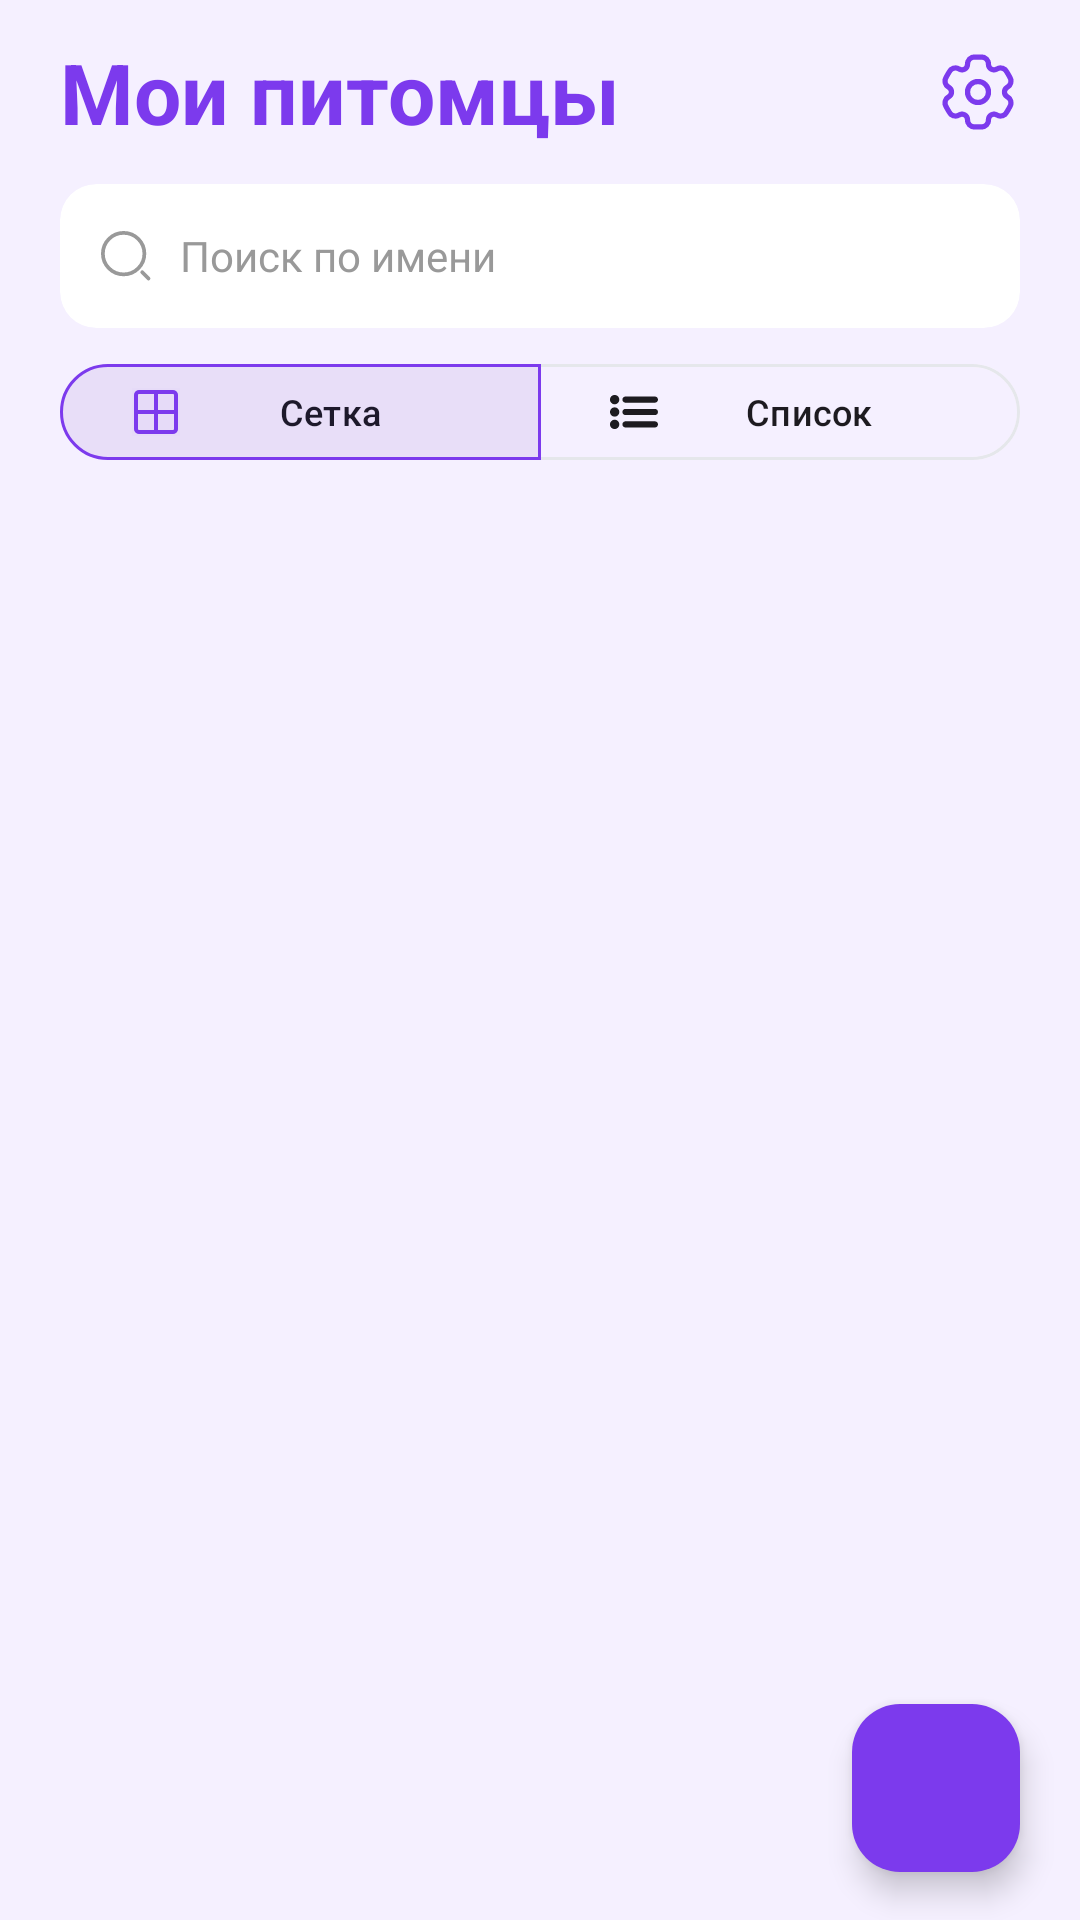

Locate icon controls on the screen. Image size 1080 x 1920, boxes as (x1, y1, x2, y2).
search: (101, 231, 151, 281)
Settings: (942, 54, 1014, 130)
